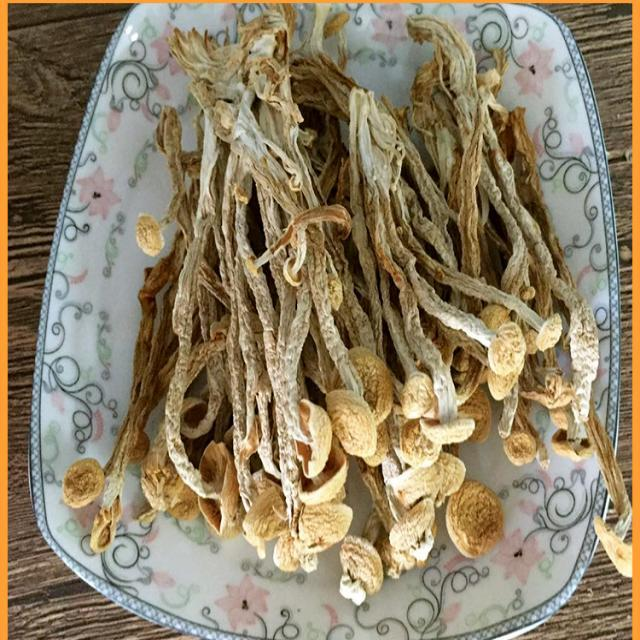Hypsizygus marmoreus: (61, 6, 636, 604)
